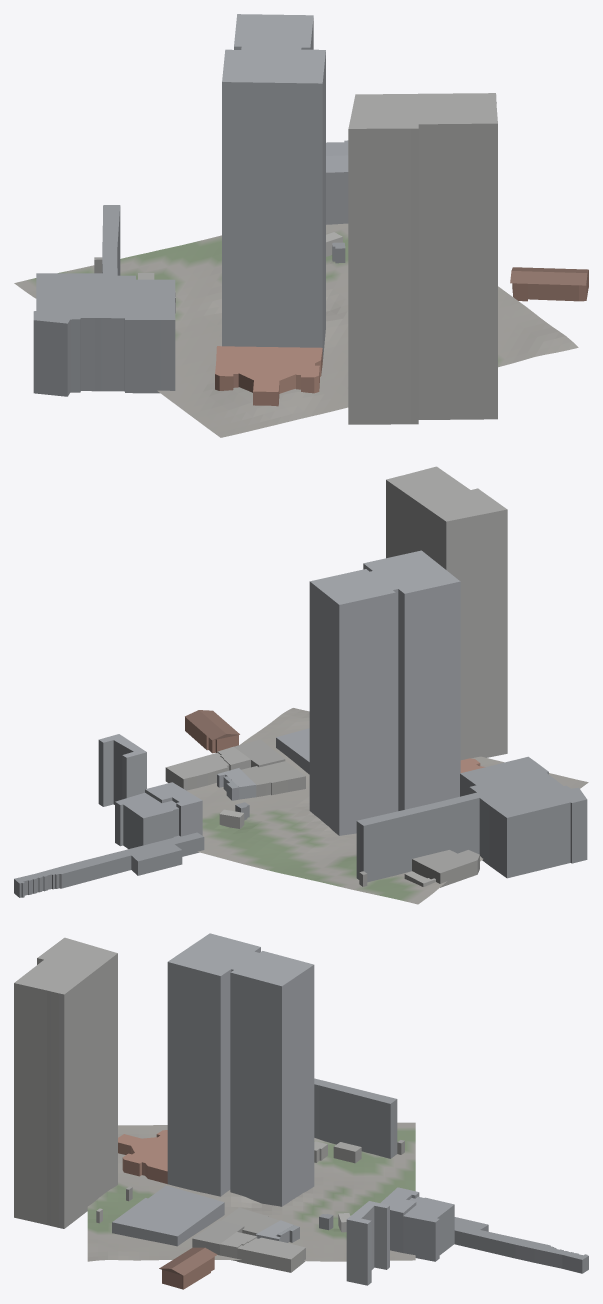
Rendered from tile_-3_1.glb.
The picture shows the model from 3 angles, top to bottom: view 1: azimuth 30°, elevation 25°; view 2: azimuth 150°, elevation 25°; view 3: azimuth 270°, elevation 25°; orthographic projection. The views are drawn at different scales.
Parts seen in each view (by area): view 1: buildings, terrain; view 2: buildings, terrain; view 3: buildings, terrain.
Part boxes in pixels (x1,y1,x2,y2): buildings: (33,14,588,424); terrain: (14,223,578,437); buildings: (14,466,587,897); terrain: (187,708,588,904); buildings: (14,933,588,1289); terrain: (87,1122,415,1261).
Size of what is drawn, in the model's own units: 373 by 202 by 449.
